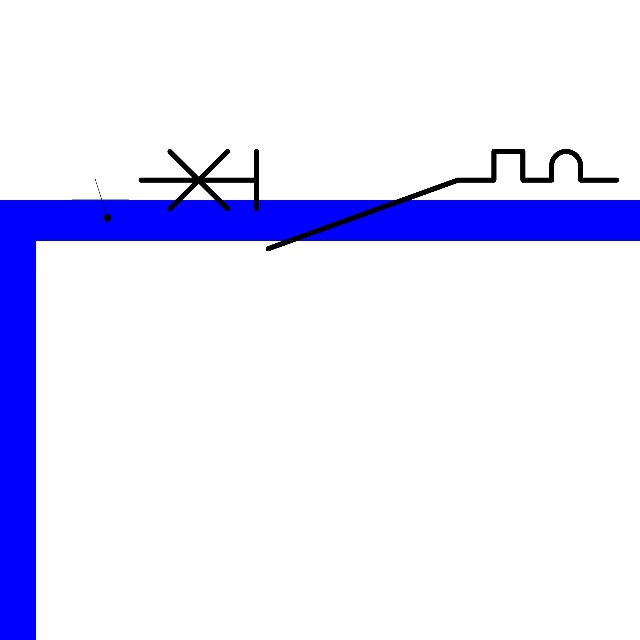interruptor_termomagnetico: (128, 139, 628, 261)
